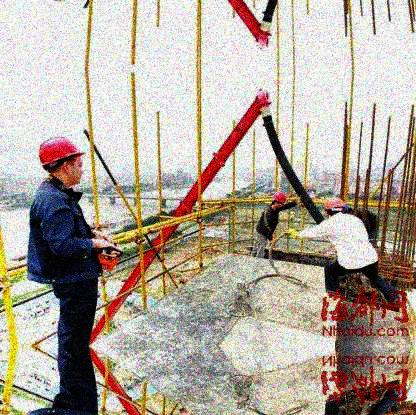helmet: (39, 136, 87, 188), (324, 196, 346, 218), (272, 192, 287, 210)
